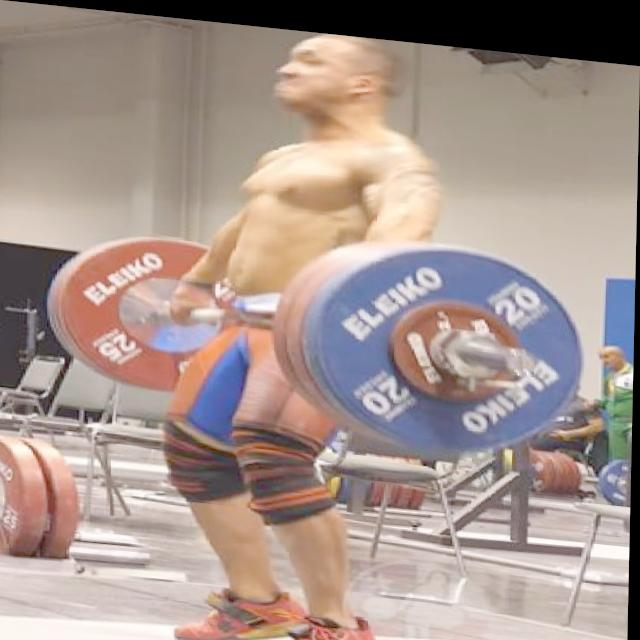barbell: (307, 221, 591, 465)
